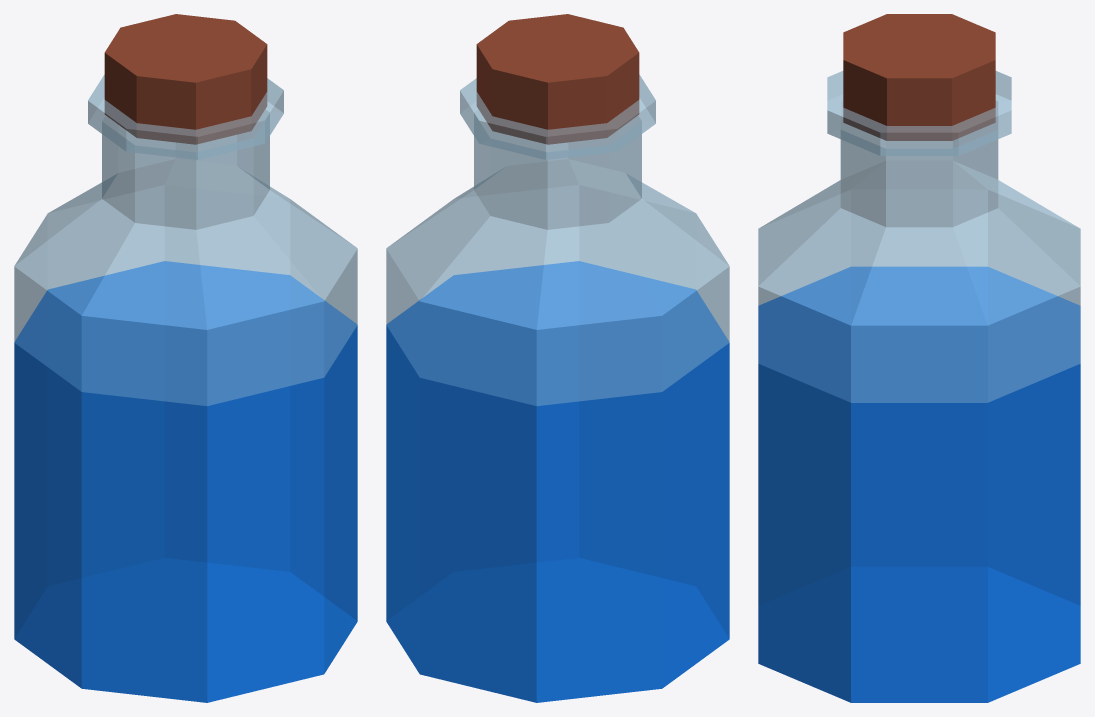
File: ManaPotion.fbx
The picture shows the model from 3 angles, left to right: view 1: azimuth 30°, elevation 25°; view 2: azimuth 150°, elevation 25°; view 3: azimuth 270°, elevation 25°; orthographic projection.
Parts seen in each view (by area): view 1: Plane; view 2: Plane; view 3: Plane.
Boxes of the visible parts, x1,y1,x2,y2 form: Plane: (14,14,357,702); Plane: (386,14,729,702); Plane: (758,14,1080,702).
Bounding box in the file's own units: 78.88 × 159 × 78.88.
